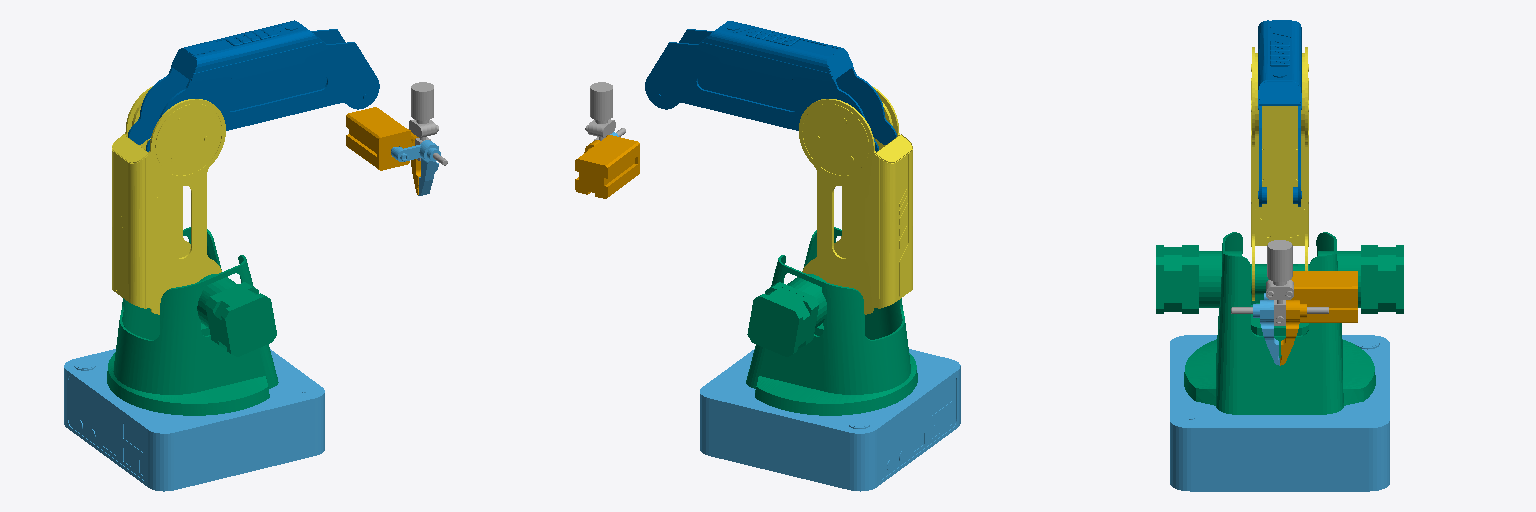
The robot description file, URDF, robot "magician":
<?xml version="1.0" ?>
<!-- =================================================================================== -->
<!-- |    This document was autogenerated by xacro from magician_standalone.urdf.xacro | -->
<!-- |    EDITING THIS FILE BY HAND IS NOT RECOMMENDED                                 | -->
<!-- |    Genetate URDF from XACRO file                                                | -->
<!-- |    ros2 run xacro xacro magician_standalone.urdf.xacro > model2_test.urdf       | -->
<!-- =================================================================================== -->

<robot name="magician" xmlns:xi="http://www.w3.org/2001/XInclude">
  <link name="magician_root_link"/>
  <link name="magician_base_link">
    <visual>
      <origin rpy="0 0 0" xyz="0 0 0"/>
      <geometry>
        <mesh filename="meshes/visual/magicianBase.obj"/>
      </geometry>
    </visual>
    <collision>
      <origin rpy="0 0 0" xyz="0 0 0"/>
      <geometry>
        <mesh filename="meshes/visual/magicianBase.obj"/>
      </geometry>
    </collision>
  </link>
  <joint name="magician_joint_base" type="fixed">
    <parent link="magician_root_link"/>
    <child link="magician_base_link"/>
    <axis xyz="0 0 0"/>
    <limit effort="2000" lower="0" upper="0" velocity="1"/>
    <origin rpy="0 0 0" xyz="0 0 0.131305"/>
    <dynamics damping="0.0" friction="0.0"/>
  </joint>
  <link name="magician_link_1">
    <visual>
      <origin rpy="0 0 0" xyz="0 0 0"/>
      <geometry>
        <mesh filename="meshes/visual/magicianLink1.obj"/>
      </geometry>
    </visual>
    <collision>
      <origin rpy="0 0 0" xyz="0 0 0"/>
      <geometry>
        <mesh filename="meshes/visual/magicianLink1.obj"/>
      </geometry>
    </collision>
  </link>
  <joint name="magician_joint_1" type="revolute">
    <parent link="magician_base_link"/>
    <child link="magician_link_1"/>
    <axis xyz="0 0 1"/>
    <limit effort="2000" lower="-2.1816615649929116" upper="2.1816615649929116" velocity="1"/>
    <origin rpy="0 0 0" xyz="0 0 0"/>
    <dynamics damping="0.0" friction="0.0"/>
  </joint>
  <link name="magician_link_2">
    <visual>
      <origin rpy="0 -0.3490658503988659 0" xyz="0 0 0"/>
      <geometry>
        <mesh filename="meshes/visual/magicianLink2.obj"/>
      </geometry>
    </visual>
    <collision>
      <origin rpy="0 -0.3490658503988659 0" xyz="0 0 0"/>
      <geometry>
        <mesh filename="meshes/visual/magicianLink2.obj"/>
      </geometry>
    </collision>
  </link>
  <joint name="magician_joint_2" type="revolute">
    <parent link="magician_link_1"/>
    <child link="magician_link_2"/>
    <axis xyz="0 1 0"/>
    <limit effort="2000" lower="-0.08726646259971647" upper="1.5707963267948966" velocity="1"/>
    <origin rpy="0 0.0 0" xyz="0 0 0.0"/>
    <dynamics damping="0.0" friction="0.0"/>
  </joint>
  <link name="magician_link_3">
    <visual>
      <origin rpy="0 -0.47123889803846897 0" xyz="0.01645236135969491 0 -0.13399373047157848"/>
      <geometry>
        <mesh filename="meshes/visual/magicianLink3.obj"/>
      </geometry>
    </visual>
    <collision>
      <origin rpy="0 -0.47123889803846897 0" xyz="0.01645236135969491 0 -0.13399373047157848"/>
      <geometry>
        <mesh filename="meshes/visual/magicianLink3.obj"/>
      </geometry>
    </collision>
  </link>
  <joint name="magician_joint_3" type="revolute">
    <parent link="magician_link_2"/>
    <child link="magician_link_3"/>
    <axis xyz="0 1 0"/>
    <limit effort="2000" lower="-0.2617993877991494" upper="1.2217304763960306" velocity="1"/>
    <origin rpy="0 0 0" xyz="0 0.0 0.135"/>
    <dynamics damping="0.0" friction="0.0"/>
  </joint>
  <link name="magician_link_virtual">
    <inertial>
      <origin rpy="0 0 0" xyz="0 0 0"/>
      <mass value="0.001"/>
      <inertia ixx="1e-6" ixy="0" ixz="0" iyy="1e-6" iyz="0" izz="1e-6"/>
    </inertial>
  </link>
  <joint name="magician_joint_mimic_1" type="revolute">
    <parent link="magician_link_3"/>
    <child link="magician_link_virtual"/>
    <axis xyz="0 1 0"/>
    <limit effort="2000" lower="0.0" upper="6.283185307179586" velocity="1"/>
    <origin rpy="0 0 0" xyz="0.147 0 0"/>
    <dynamics damping="0.0" friction="0.0"/>
    <mimic joint="magician_joint_2" multiplier="-1" offset="0"/>
  </joint>
  <link name="magician_link_4">
    <visual>
      <origin rpy="0 0 0" xyz="-0.17715067840465534 0 -0.058595107267811"/>
      <geometry>
        <mesh filename="meshes/visual/magicianLink4.obj"/>
      </geometry>
    </visual>
    <collision>
      <origin rpy="0 0 0" xyz="-0.17715067840465534 0 -0.058595107267811"/>
      <geometry>
        <mesh filename="meshes/visual/magicianLink4.obj"/>
      </geometry>
    </collision>
  </link>
  <joint name="magician_joint_mimic_2" type="revolute">
    <parent link="magician_link_virtual"/>
    <child link="magician_link_4"/>
    <axis xyz="0 1 0"/>
    <limit effort="2000" lower="0.0" upper="6.283185307179586" velocity="1"/>
    <origin rpy="0 0 0" xyz="0 0 0"/>
    <dynamics damping="0.0" friction="0.0"/>
    <mimic joint="magician_joint_3" multiplier="-1" offset="0"/>
  </joint>
  <link name="magician_link_gripper_core">
    <visual>
      <origin rpy="0 0 0" xyz="-8.06784046553505e-05 0 -0.027843407267811"/>
      <geometry>
        <mesh filename="meshes/visual/gripper_core.obj"/>
      </geometry>
    </visual>
    <collision>
      <origin rpy="0 0 0" xyz="-8.06784046553505e-05 0 -0.027843407267811"/>
      <geometry>
        <mesh filename="meshes/visual/gripper_core.obj"/>
      </geometry>
    </collision>
  </link>
  <joint name="magician_joint_4" type="revolute">
    <parent link="magician_link_4"/>
    <child link="magician_link_gripper_core"/>
    <axis xyz="0 0 1"/>
    <limit effort="2000" lower="-2.6179938779914944" upper="2.6179938779914944" velocity="1"/>
    <origin rpy="0 0 0" xyz="0.06 0 0"/>
    <dynamics damping="0.0" friction="0.0"/>
  </joint>
  <link name="magician_link_gripper_jaw_left">
    <visual>
      <origin rpy="0 0 0" xyz="-8.06784046553505e-05 -0.0009 -0.027843407267811"/>
      <geometry>
        <mesh filename="meshes/visual/jaw_left.obj"/>
      </geometry>
    </visual>
    <collision>
      <origin rpy="0 0 0" xyz="-8.06784046553505e-05 -0.0009 -0.027843407267811"/>
      <geometry>
        <mesh filename="meshes/visual/jaw_left.obj"/>
      </geometry>
    </collision>
  </link>
  <joint name="magician_joint_prismatic_l" type="prismatic">
    <parent link="magician_link_gripper_core"/>
    <child link="magician_link_gripper_jaw_left"/>
    <axis xyz="0 1 0 "/>
    <limit effort="2000" lower="0" upper="0.0135" velocity="1"/>
    <origin rpy="0 0 0" xyz="0 0 0"/>
    <dynamics damping="0.0" friction="0.0"/>
  </joint>
  <link name="magician_link_gripper_jaw_right">
    <visual>
      <origin rpy="0 0 0" xyz="-8.06784046553505e-05 0.0009 -0.027843407267811"/>
      <geometry>
        <mesh filename="meshes/visual/jaw_right.obj"/>
      </geometry>
    </visual>
    <collision>
      <origin rpy="0 0 0" xyz="-8.06784046553505e-05 0.0009 -0.027843407267811"/>
      <geometry>
        <mesh filename="meshes/visual/jaw_right.obj"/>
      </geometry>
    </collision>
  </link>
  <joint name="magician_joint_prismatic_r" type="prismatic">
    <parent link="magician_link_gripper_core"/>
    <child link="magician_link_gripper_jaw_right"/>
    <axis xyz="0 1 0"/>
    <limit effort="2000" lower="0" upper="-0.0135" velocity="1"/>
    <origin rpy="0 0 0" xyz="0 0 0"/>
    <dynamics damping="0.0" friction="0.0"/>
    <mimic joint="magician_joint_prismatic_l" multiplier="-1" offset="0"/>
  </joint>
</robot>

--- Facts derived from the render (not from the file) ---
3 views of the same robot in one strip: view 1: azimuth 30°, elevation 25°; view 2: azimuth 150°, elevation 25°; view 3: azimuth 270°, elevation 25° (orthographic).
Robot: magician — 10 links, 9 joints (6 revolute, 2 prismatic, 1 fixed); root link magician_root_link; default pose: all joints at 0.
Visible links, largest first — view 1: magician_base_link, magician_link_1, magician_link_2, magician_link_3, magician_link_gripper_jaw_left, magician_link_gripper_core, magician_link_gripper_jaw_right; view 2: magician_base_link, magician_link_1, magician_link_2, magician_link_3, magician_link_gripper_jaw_left, magician_link_gripper_core; view 3: magician_link_1, magician_base_link, magician_link_2, magician_link_3, magician_link_gripper_jaw_left, magician_link_gripper_core, magician_link_gripper_jaw_right.
Boxes of the visible links, left/top/right/bottom form: magician_base_link: left=64, top=349, right=324, bottom=491; magician_link_1: left=107, top=227, right=278, bottom=415; magician_link_2: left=112, top=86, right=225, bottom=314; magician_link_3: left=128, top=20, right=379, bottom=151; magician_link_gripper_jaw_left: left=346, top=107, right=420, bottom=194; magician_link_gripper_core: left=409, top=82, right=447, bottom=165; magician_link_gripper_jaw_right: left=391, top=140, right=440, bottom=195; magician_base_link: left=700, top=349, right=960, bottom=491; magician_link_1: left=746, top=227, right=917, bottom=415; magician_link_2: left=799, top=86, right=912, bottom=314; magician_link_3: left=645, top=21, right=896, bottom=151; magician_link_gripper_jaw_left: left=575, top=135, right=639, bottom=198; magician_link_gripper_core: left=585, top=82, right=625, bottom=140; magician_link_1: left=1156, top=232, right=1403, bottom=414; magician_base_link: left=1170, top=335, right=1389, bottom=491; magician_link_2: left=1251, top=47, right=1308, bottom=300; magician_link_3: left=1258, top=20, right=1301, bottom=206; magician_link_gripper_jaw_left: left=1280, top=271, right=1357, bottom=365; magician_link_gripper_core: left=1231, top=240, right=1328, bottom=325; magician_link_gripper_jaw_right: left=1253, top=293, right=1279, bottom=365.
Bounding box of the posed robot: 0.2958 × 0.178 × 0.3344 m (x, y, z).
7 mesh visuals loaded from 8 distinct referenced files (7 OBJ); not drawn: 1 (reference not matched to a file when rendering).
